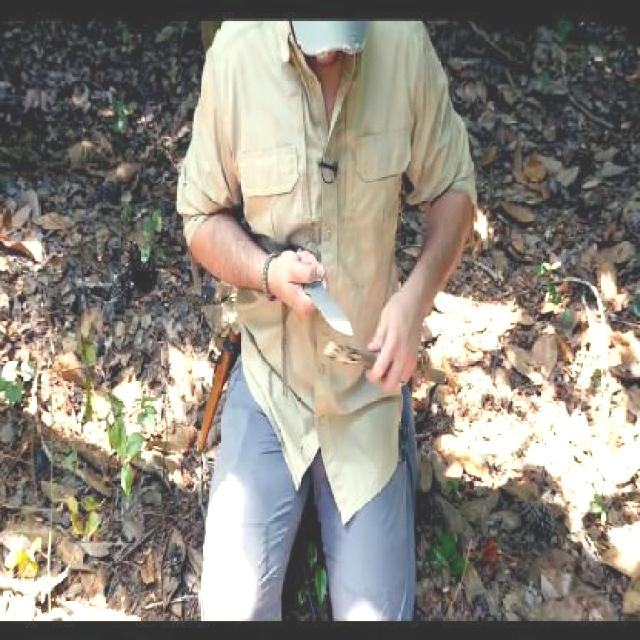knife: (272, 243, 357, 342)
